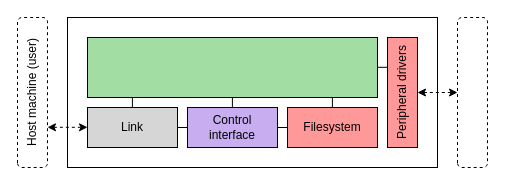
Some shapes in this 505 by 185 pixel diagram are drawn without their labels. The shapes that lost their labels are listed below. From the top down, each one's box as (x1, y1, x2, y2) in pixels, then its label:
(86, 36, 378, 98): Jaculus machine
(456, 16, 488, 168): Outside world
